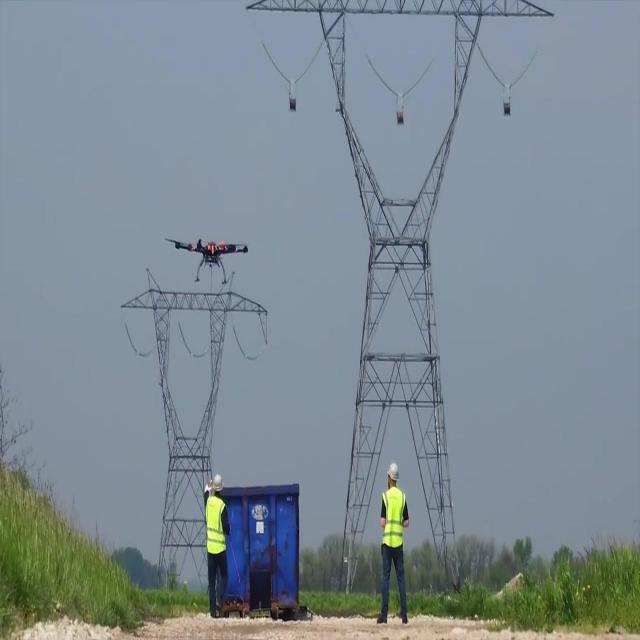UAV: (164, 238, 248, 284)
